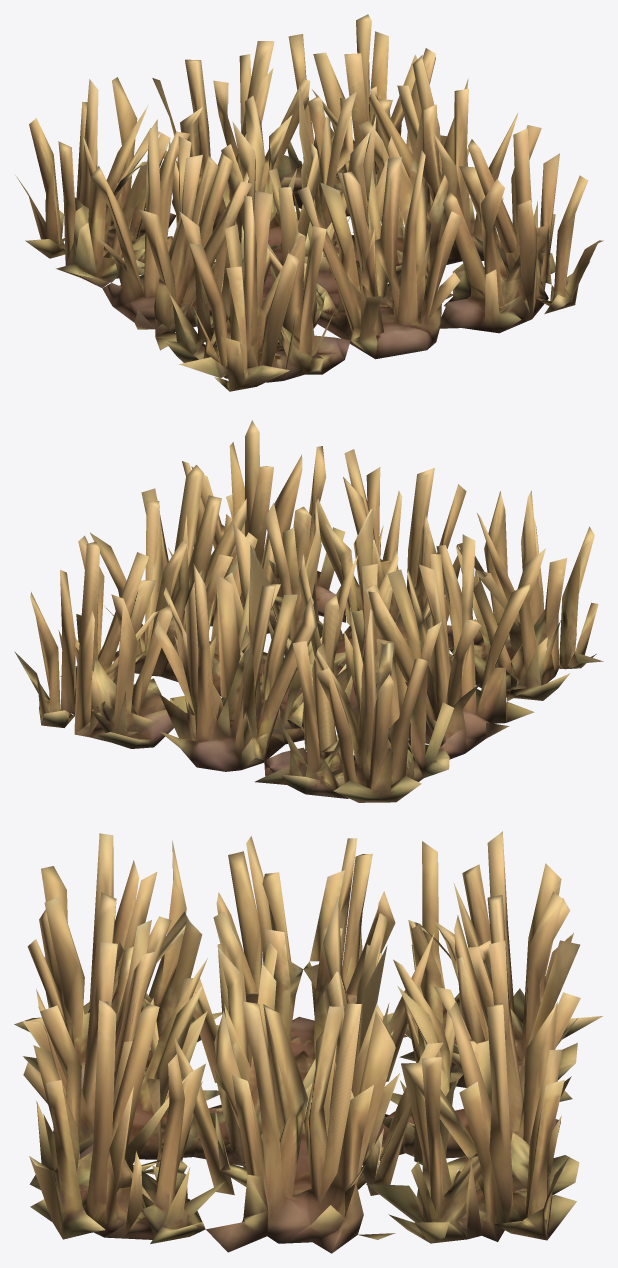
File: wheat_harvested.glb
3 views of the same model, one above another, from view 1: azimuth 30°, elevation 25°; view 2: azimuth 150°, elevation 25°; view 3: azimuth 270°, elevation 25° (orthographic). The views are drawn at different scales.
Size of the model in its own units: 1.92 by 0.8036 by 1.9.
1 material, 1 textured.
